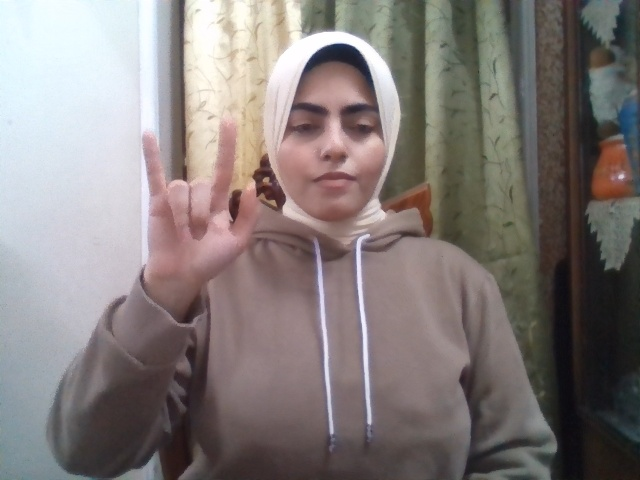iloveyou: (142, 114, 261, 283)
